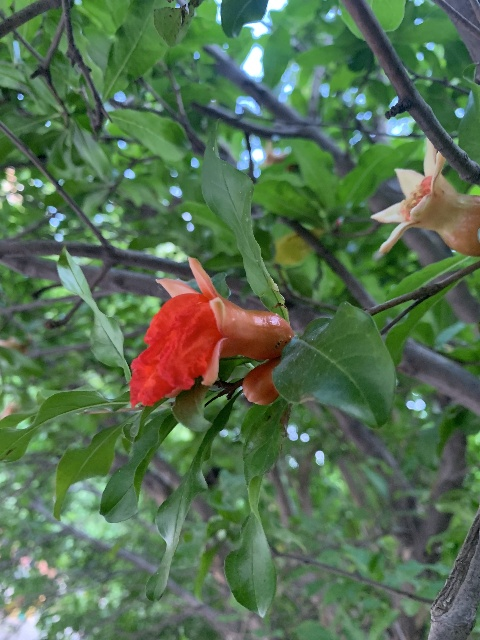bud: (242, 359, 281, 405)
early-fruit: (370, 138, 480, 258)
flower: (127, 256, 292, 404)
